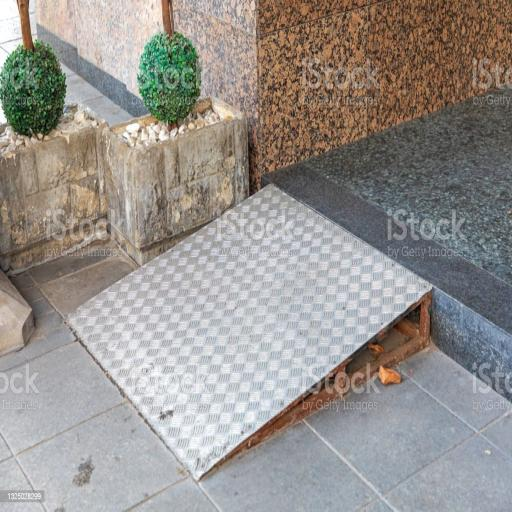ramp: (64, 184, 436, 480)
